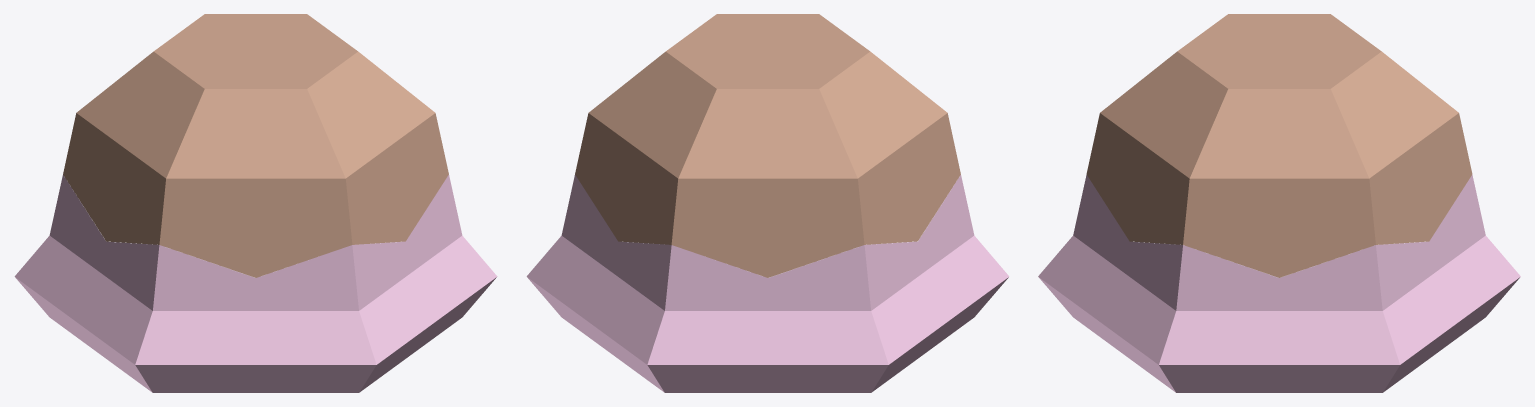
3 views of the same model, side by side, from view 1: azimuth 30°, elevation 25°; view 2: azimuth 150°, elevation 25°; view 3: azimuth 270°, elevation 25° (orthographic).
Visible parts, largest first — view 1: iceCreamScoop; view 2: iceCreamScoop; view 3: iceCreamScoop.
Boxes of the visible parts, x1,y1,x2,y2 form: iceCreamScoop: (14,14,497,392); iceCreamScoop: (526,14,1009,392); iceCreamScoop: (1038,14,1520,392).
Size of the model in its own units: 0.2353 by 0.1651 by 0.2716.
